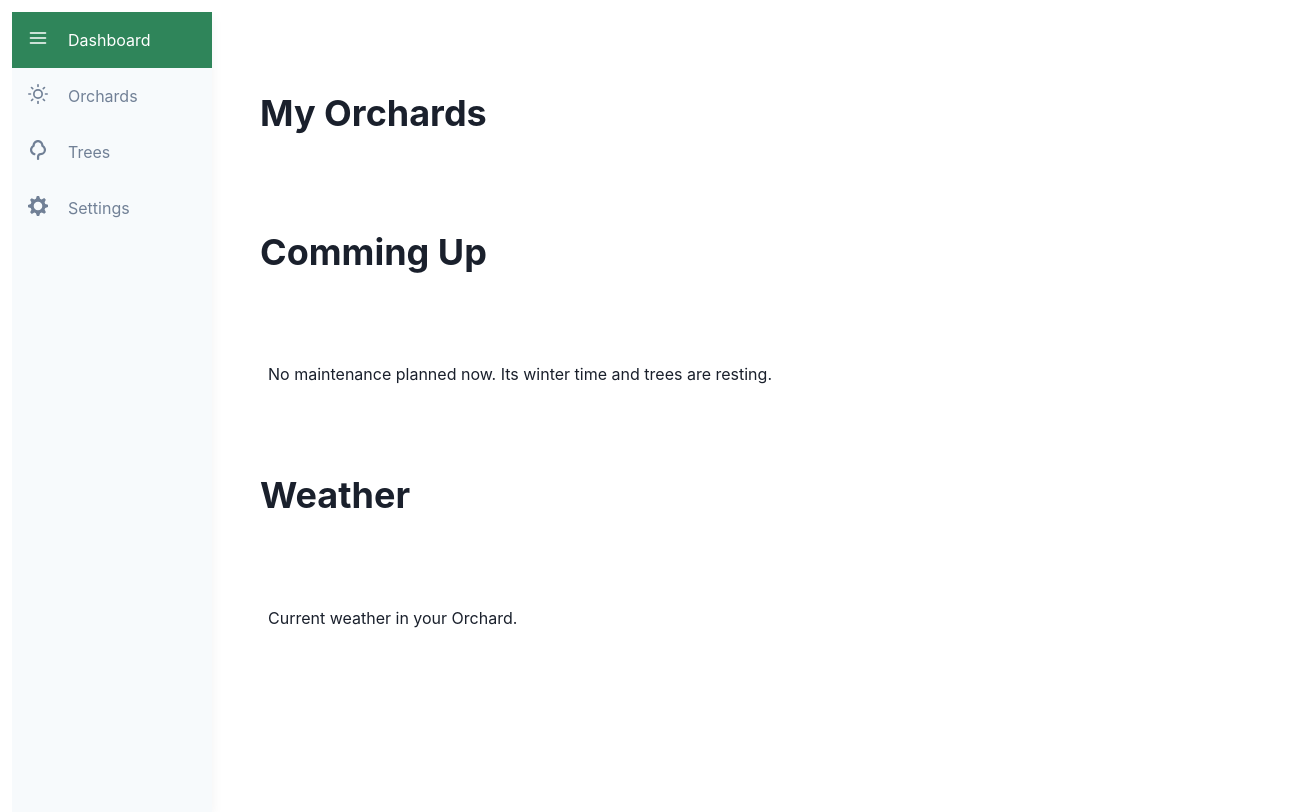
Navigation › should navigate between pages
Expected: the heading "My Orchards" is shown, [260,91,487,135]
Click the menu item "Trees" at point(112, 152), box [12,124,212,180]
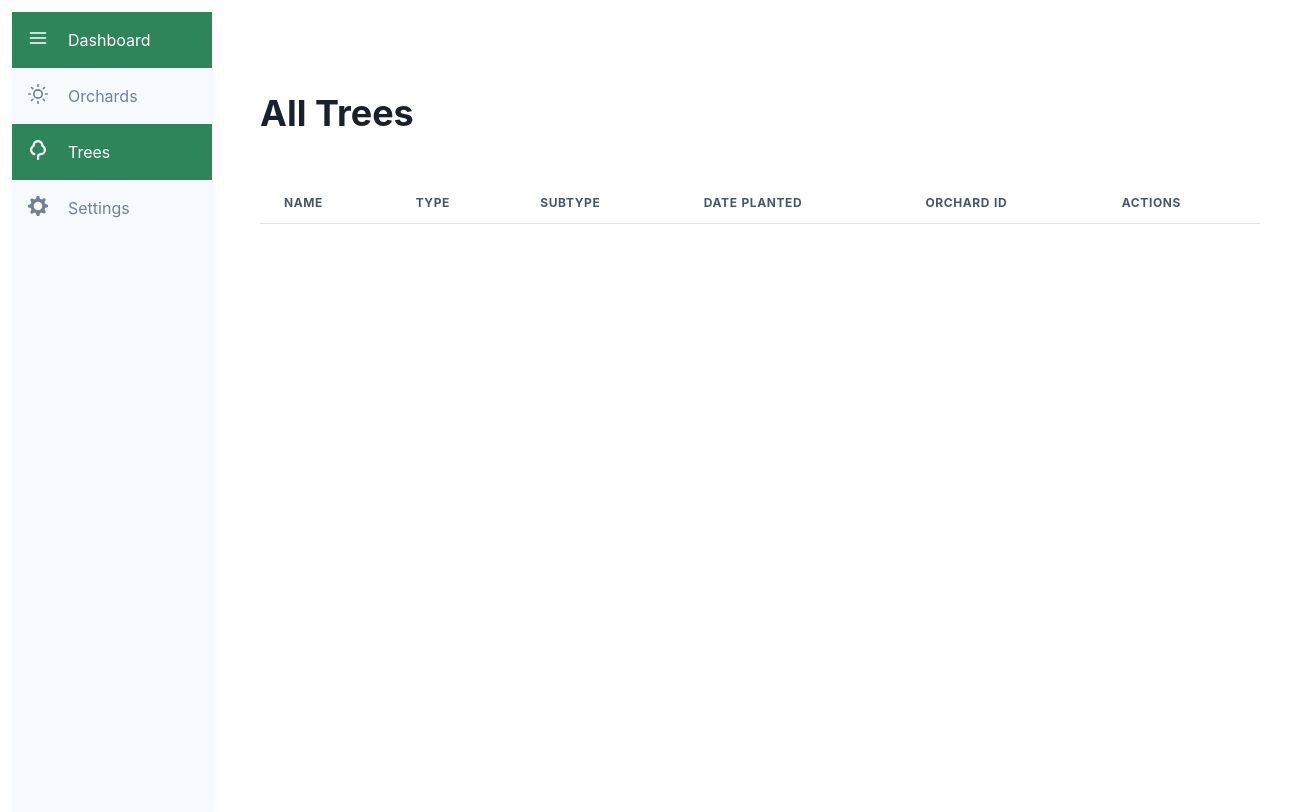
Now the heading "All Trees" is shown, box [260,91,414,135]
Click the menu item "Settings" at point(112, 208), box [12,180,212,236]
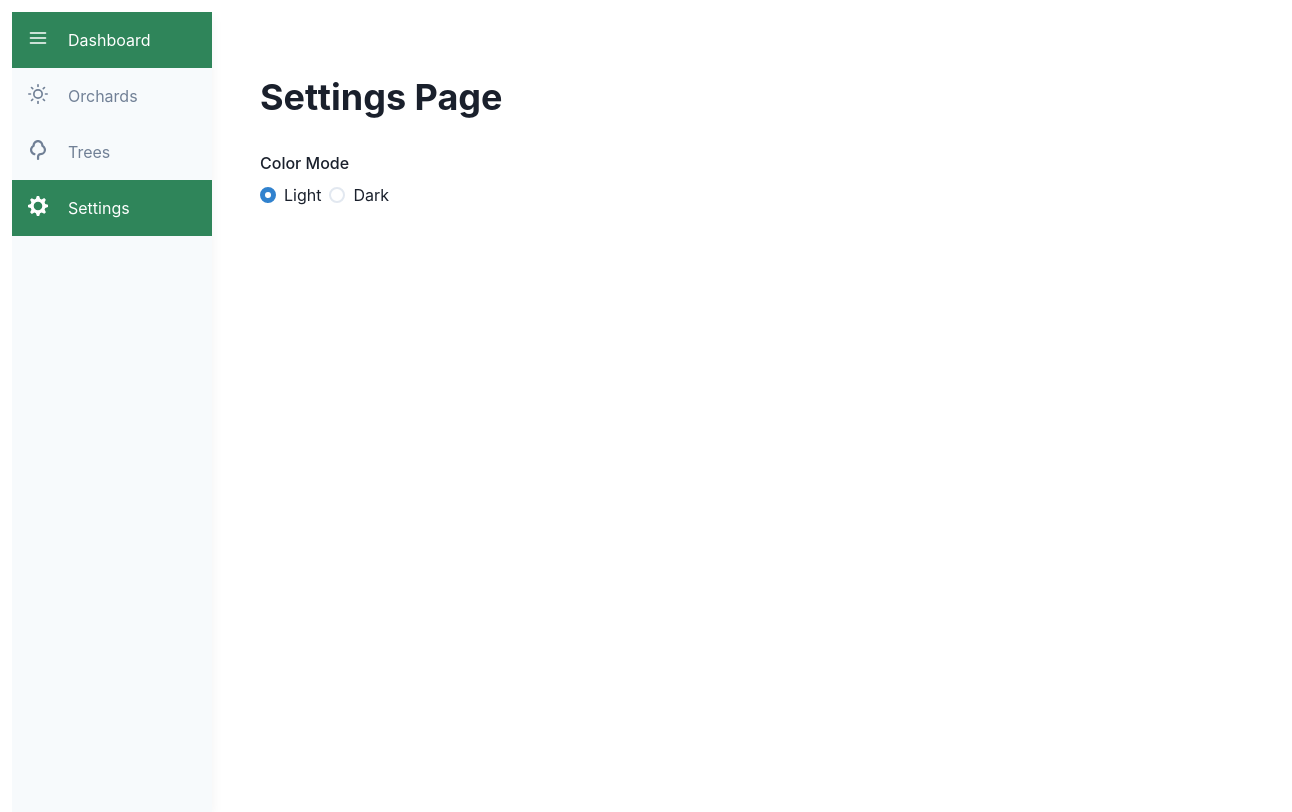
Now the heading "Settings Page" is shown, box [260,75,503,119]
